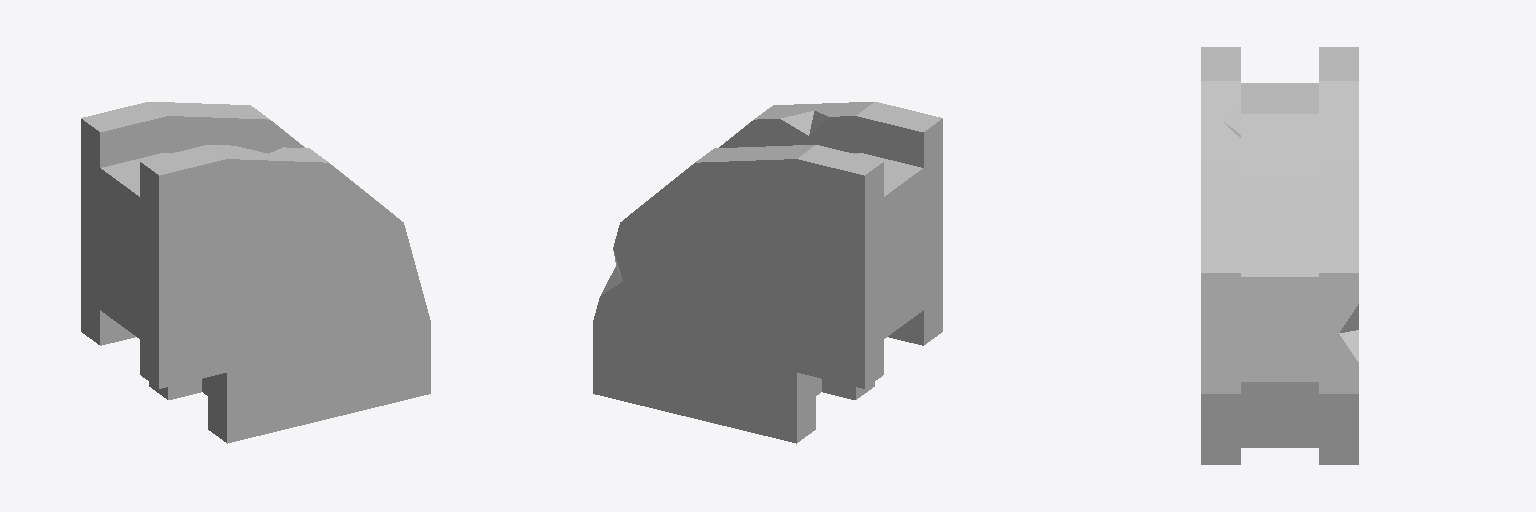
The model's file is border-corner.obj.
3 renders of one model, left to right at view 1: azimuth 30°, elevation 25°; view 2: azimuth 150°, elevation 25°; view 3: azimuth 270°, elevation 25°, orthographic.
Parts seen in each view (by area): view 1: border-corner.011; view 2: border-corner.011; view 3: border-corner.011.
Part boxes in pixels (left/top/right/bottom): border-corner.011: left=81, top=102, right=430, bottom=443; border-corner.011: left=593, top=102, right=942, bottom=443; border-corner.011: left=1201, top=47, right=1358, bottom=464.
Bounding box in the file's own units: 0.8 × 0.8 × 0.4.